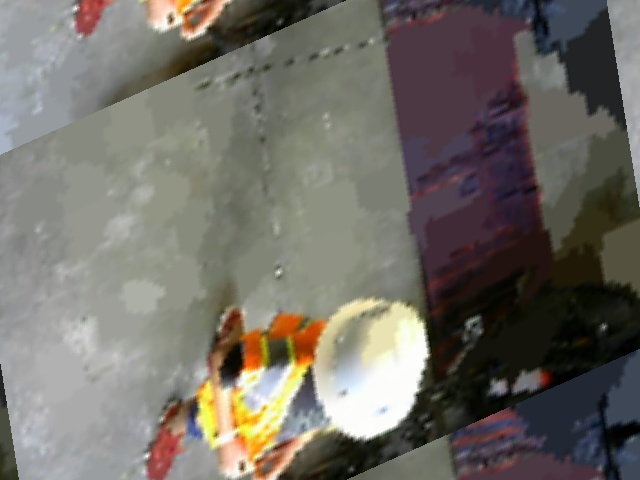eight: (359, 289, 409, 329)
